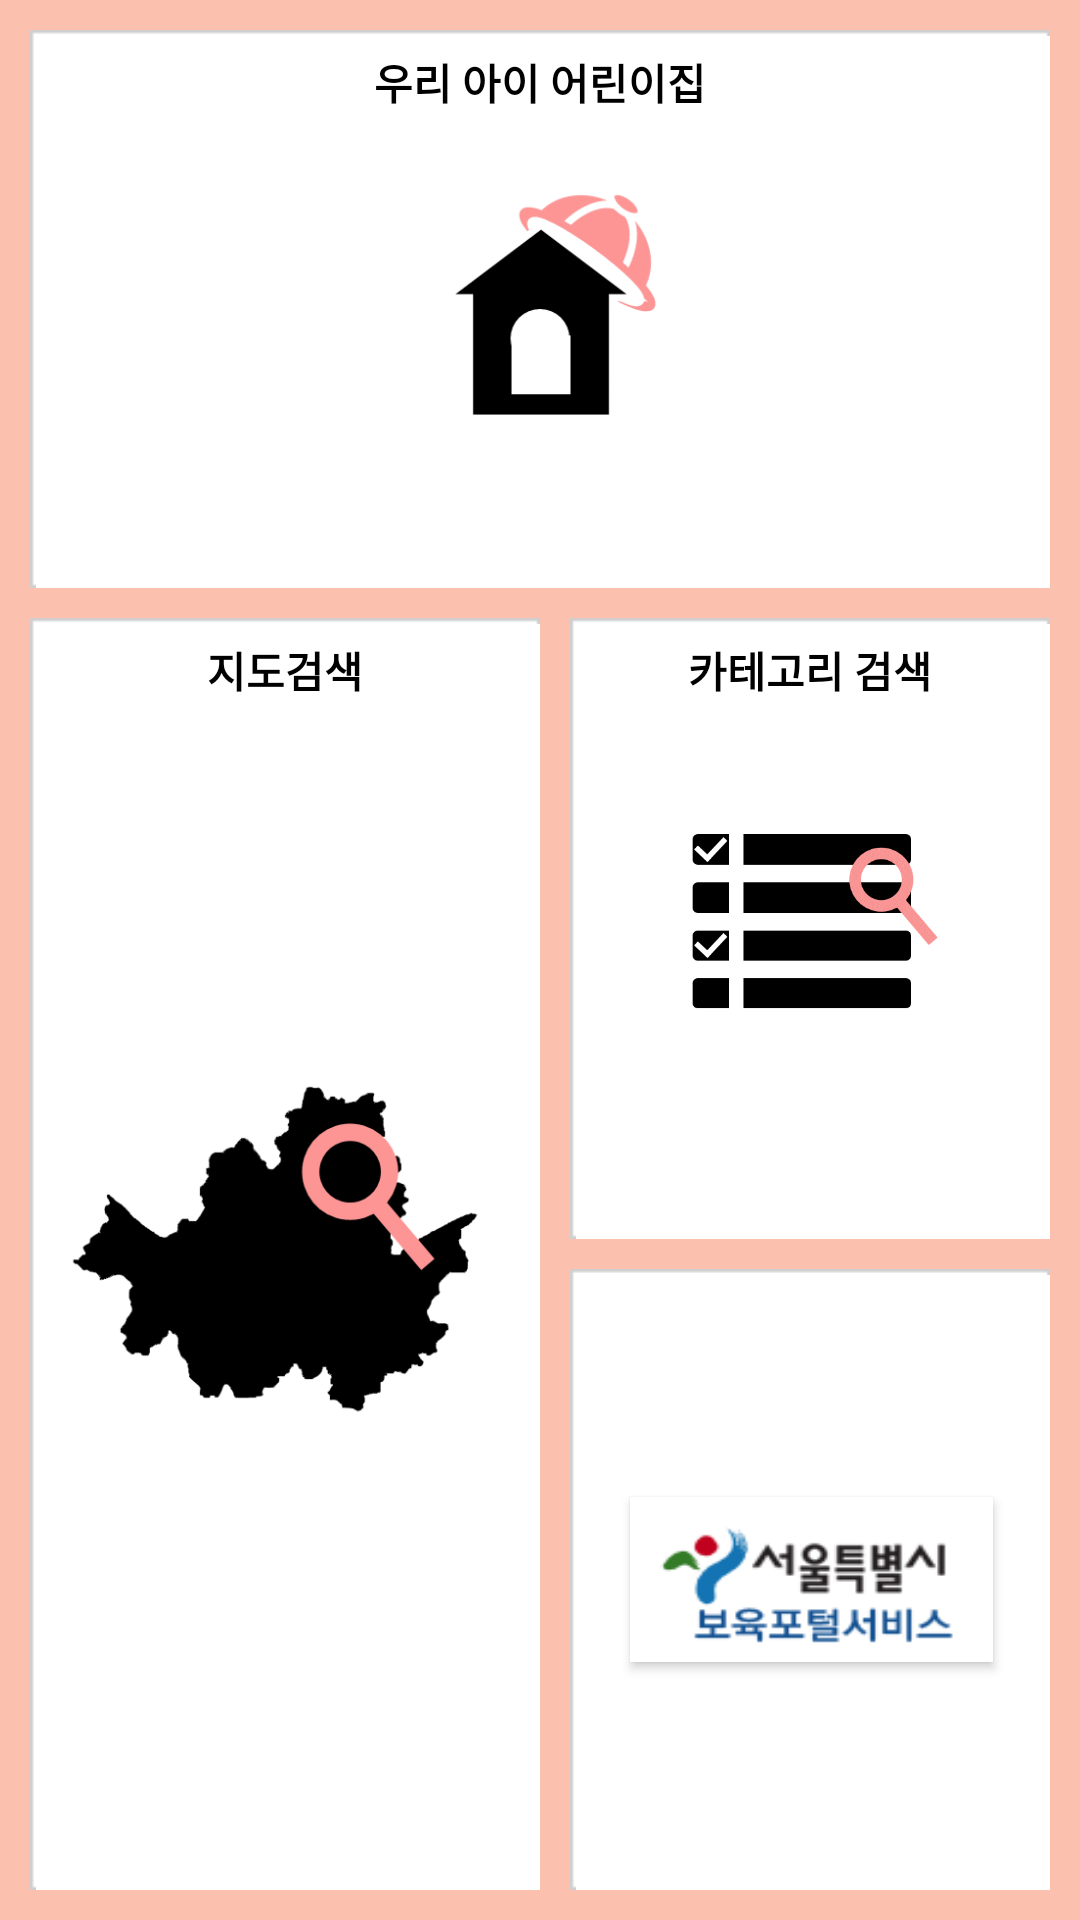

Screen size 1080 x 1920. Icon name, then its box in pixels as (x1, y1, x2, y2):
find category: (692, 834, 938, 1008)
school: (456, 195, 656, 415)
